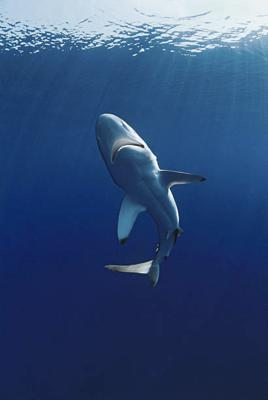Shark -Selachimorpha-: (94, 114, 205, 287)
